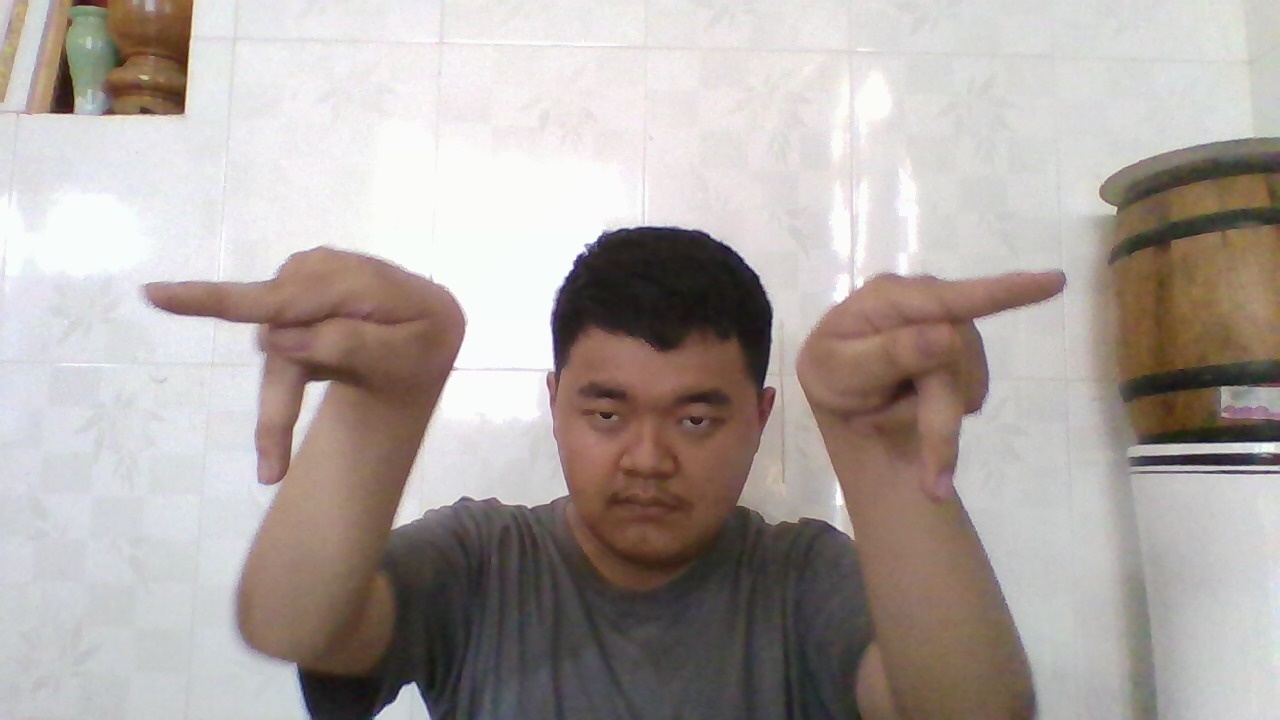P: (803, 267, 1074, 496), (156, 254, 451, 382)
